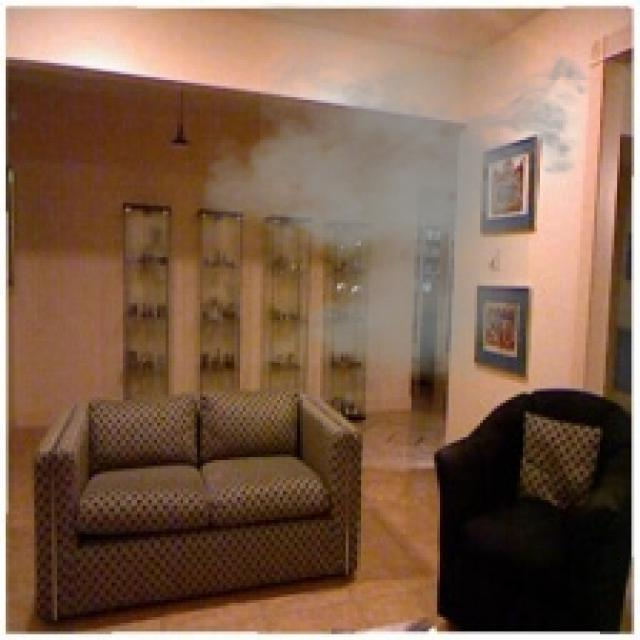Smoke: (186, 3, 603, 383)
